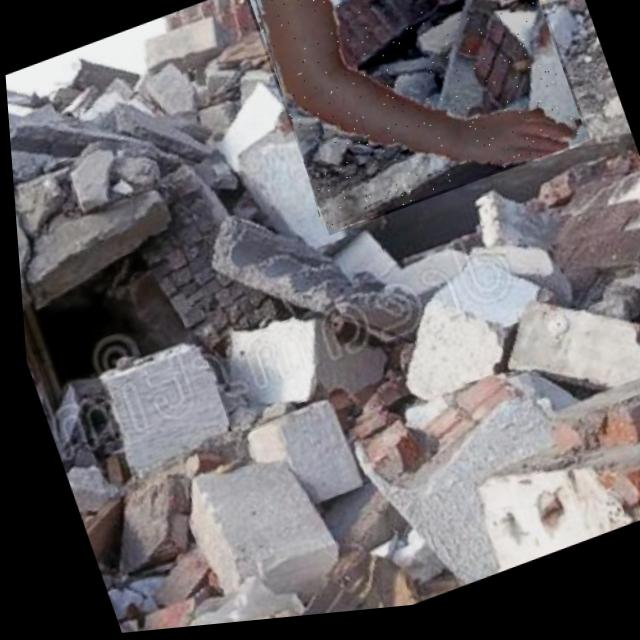Person in Rubble: (241, 0, 591, 246)
